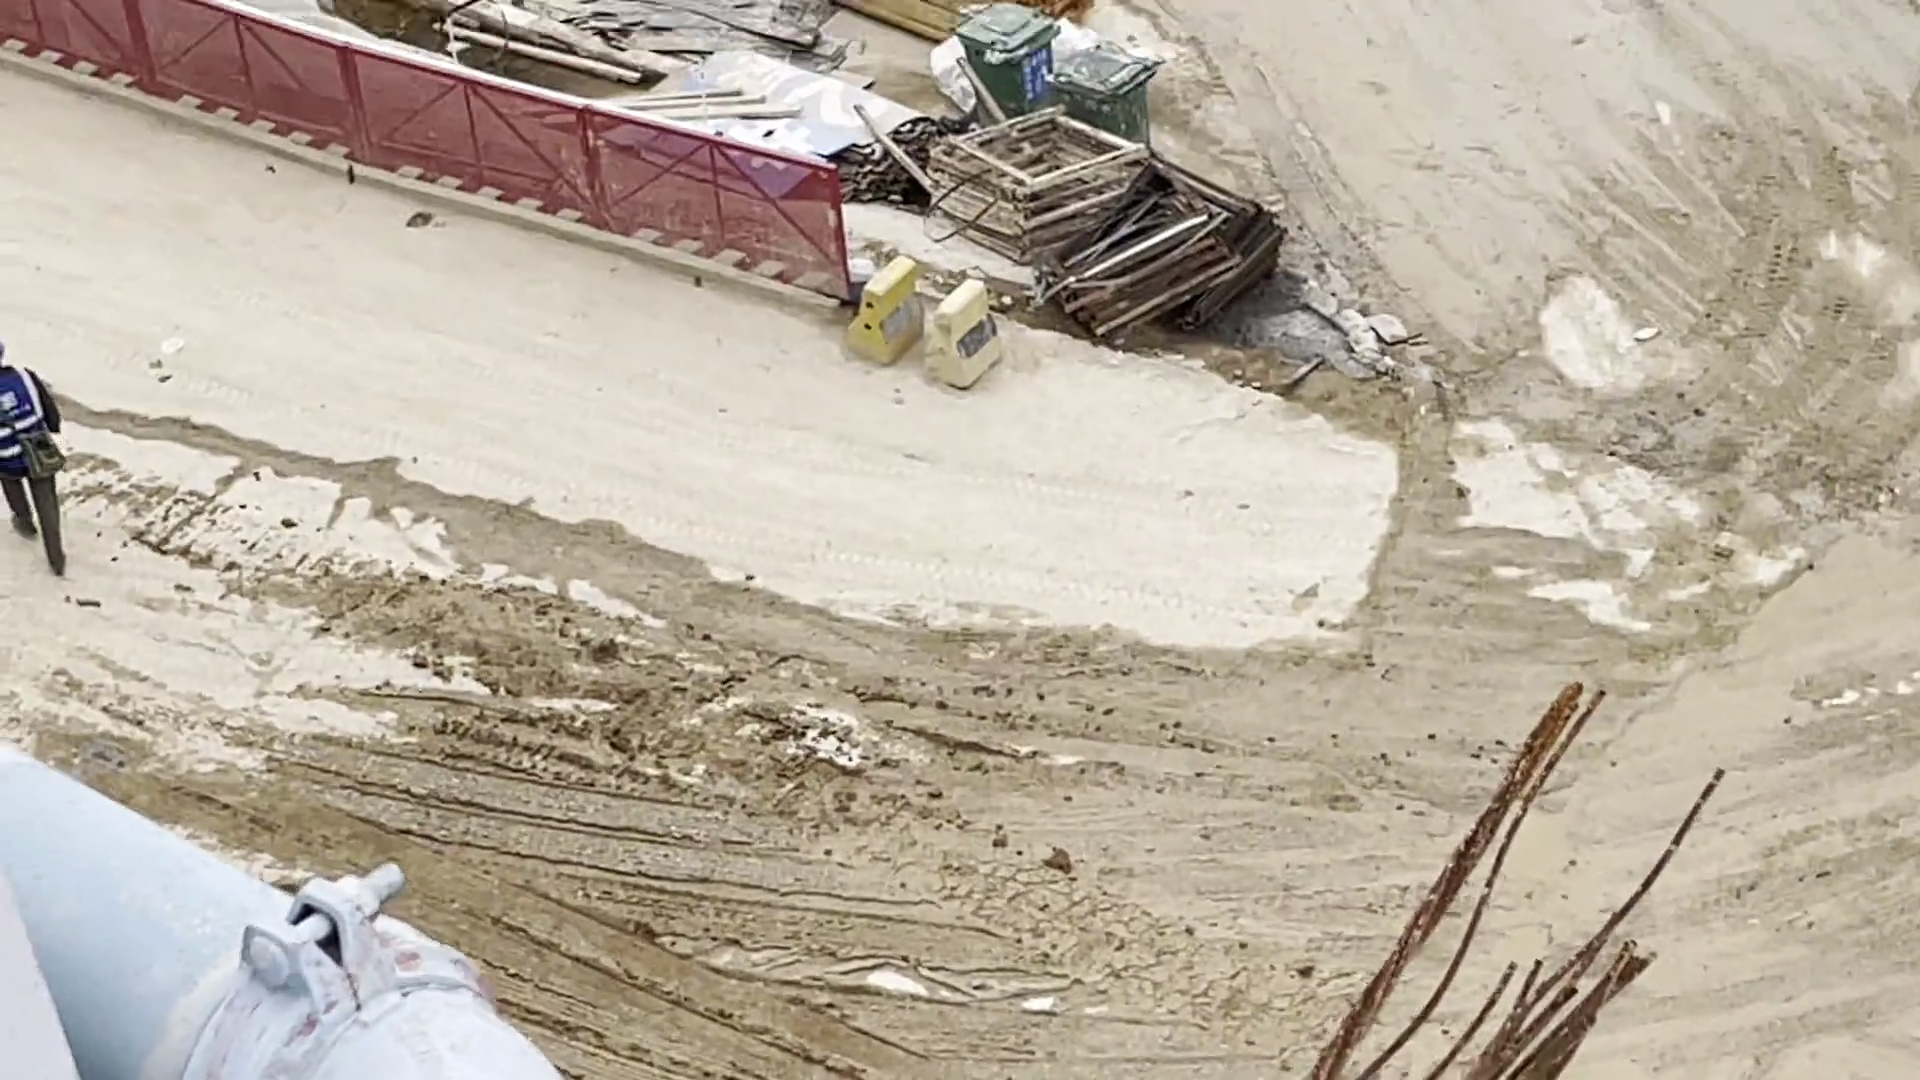fence: (1, 1, 849, 307)
person: (1, 338, 89, 581)
vest: (1, 371, 55, 453)
